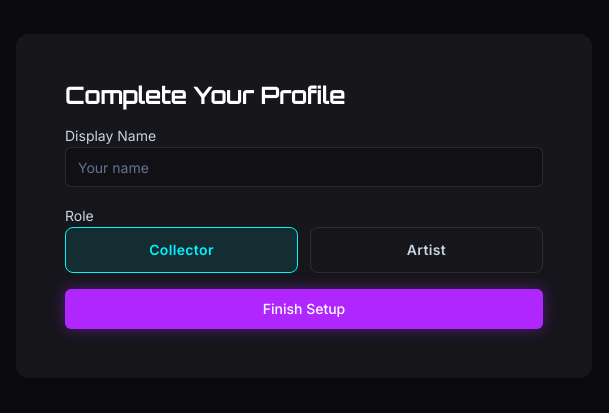
OnboardingPage in Normal Mode › should show error message for empty display name on submit
Click the button "Finish Setup".
click(304, 309)  # box [65,289,543,329]
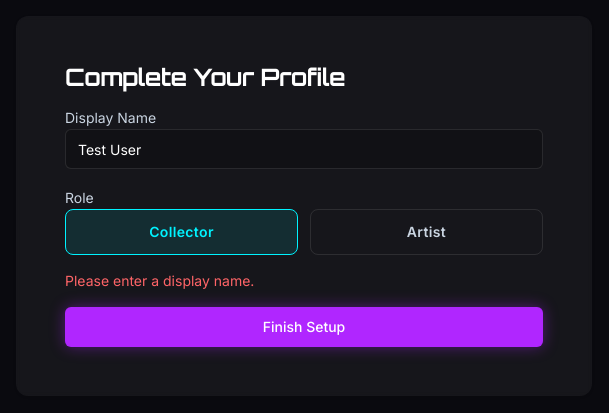
Expected: the text "Please enter a display name." is shown, [65,272,254,289]
